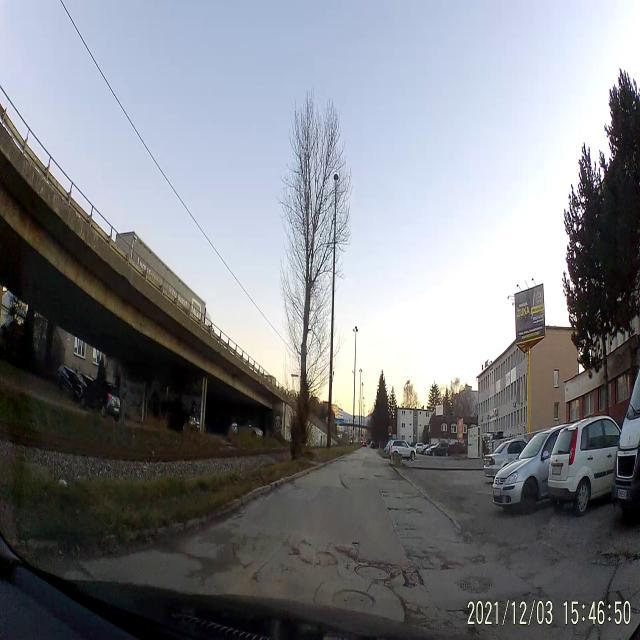Manhole: (456, 570, 492, 598), (334, 586, 375, 610), (354, 558, 388, 582)
Pothole: (393, 561, 428, 593), (338, 535, 358, 565)
